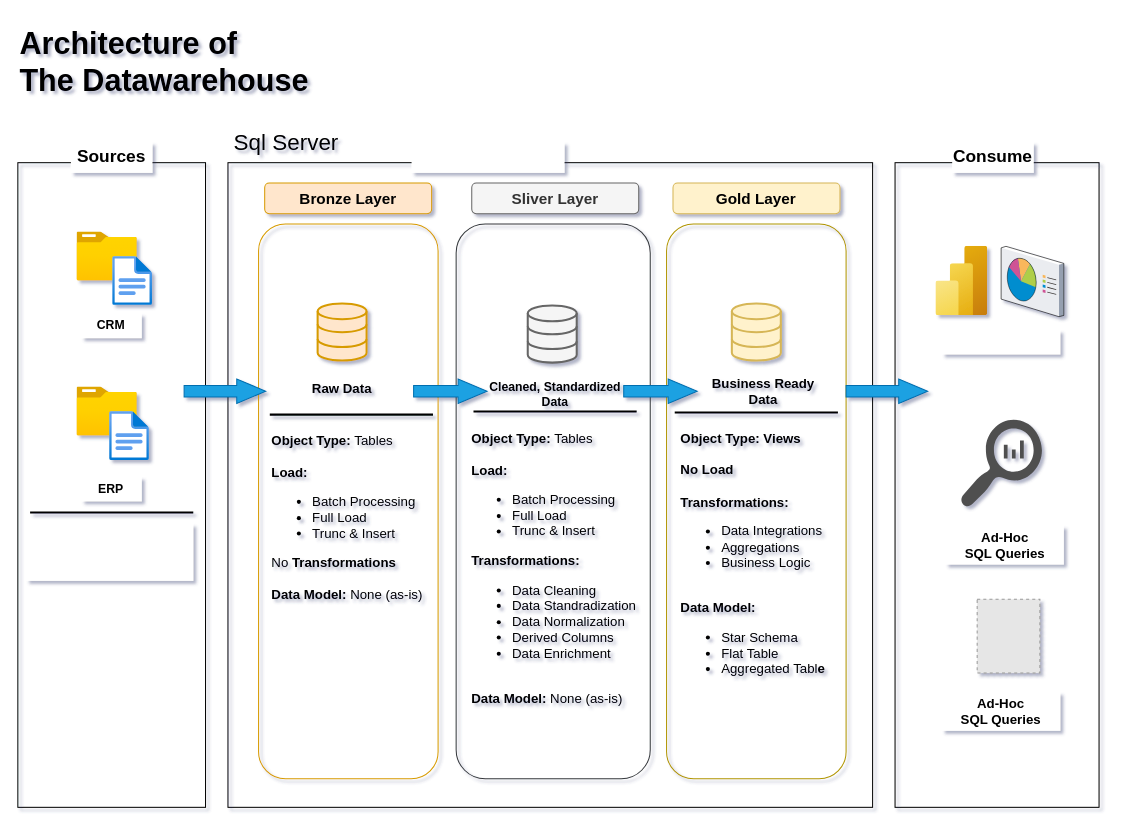
Image size: 1123x831. Some labels were removed from this diagram. Grey dashed boxes stand in for pictures. The shapes that lost their labels are listed below. From the top down, each one's centre as x and y in pixels, then its label:
[487,157]: Data Warehouse
[1000,341]: BI & Reporting
[109,551]: Object Type: CSV Files Interface: Files in Folders
